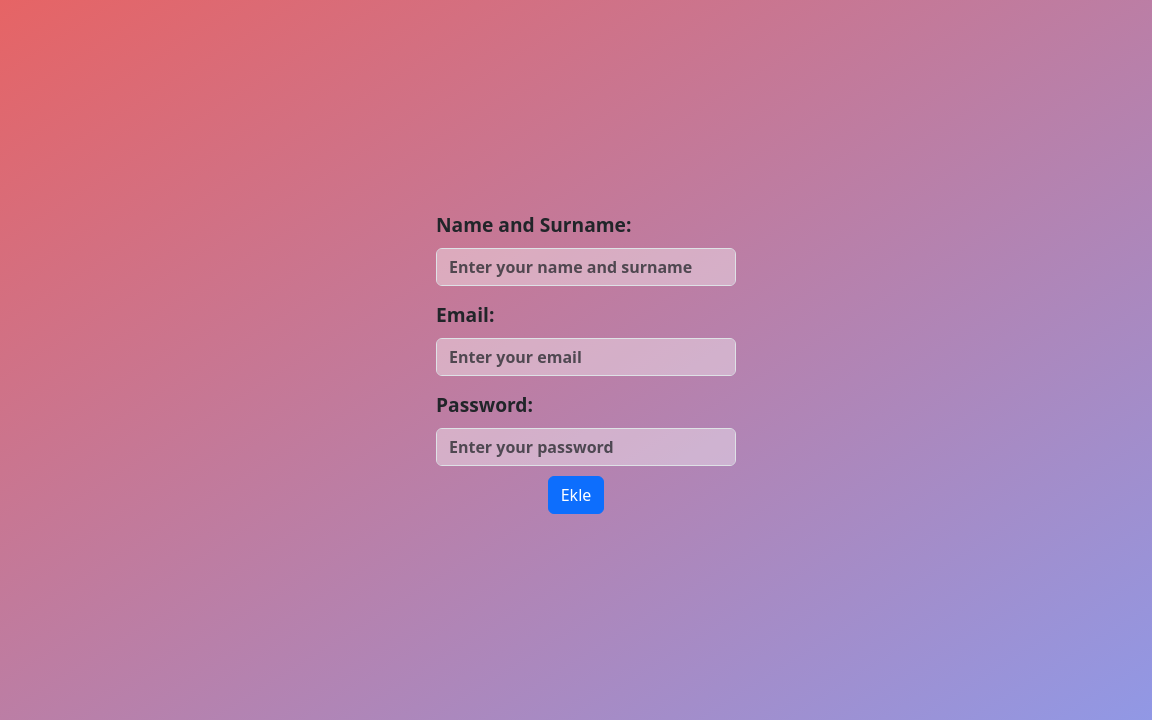
İlk Test › Test 1 - Form Boş iken hataları düzgün veriyor mu ?
Click the button "Ekle".
click(577, 495)  # box [548, 476, 605, 514]
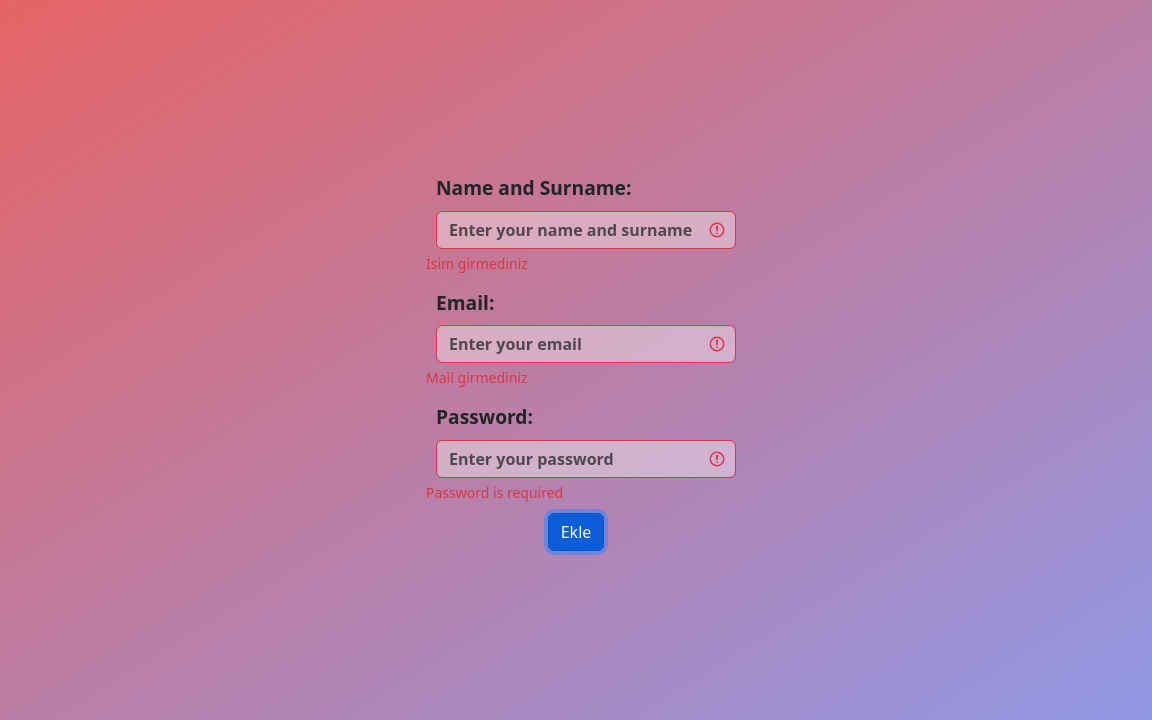
Expected: the text with class "invalid-feedback" reads "İsim girmediniz", [426, 254, 528, 273]
Expected: the text with class "invalid-feedback" reads "Mail girmediniz", [426, 368, 528, 387]
Expected: the text with class "invalid-feedback" reads "Password is required", [426, 483, 563, 502]
